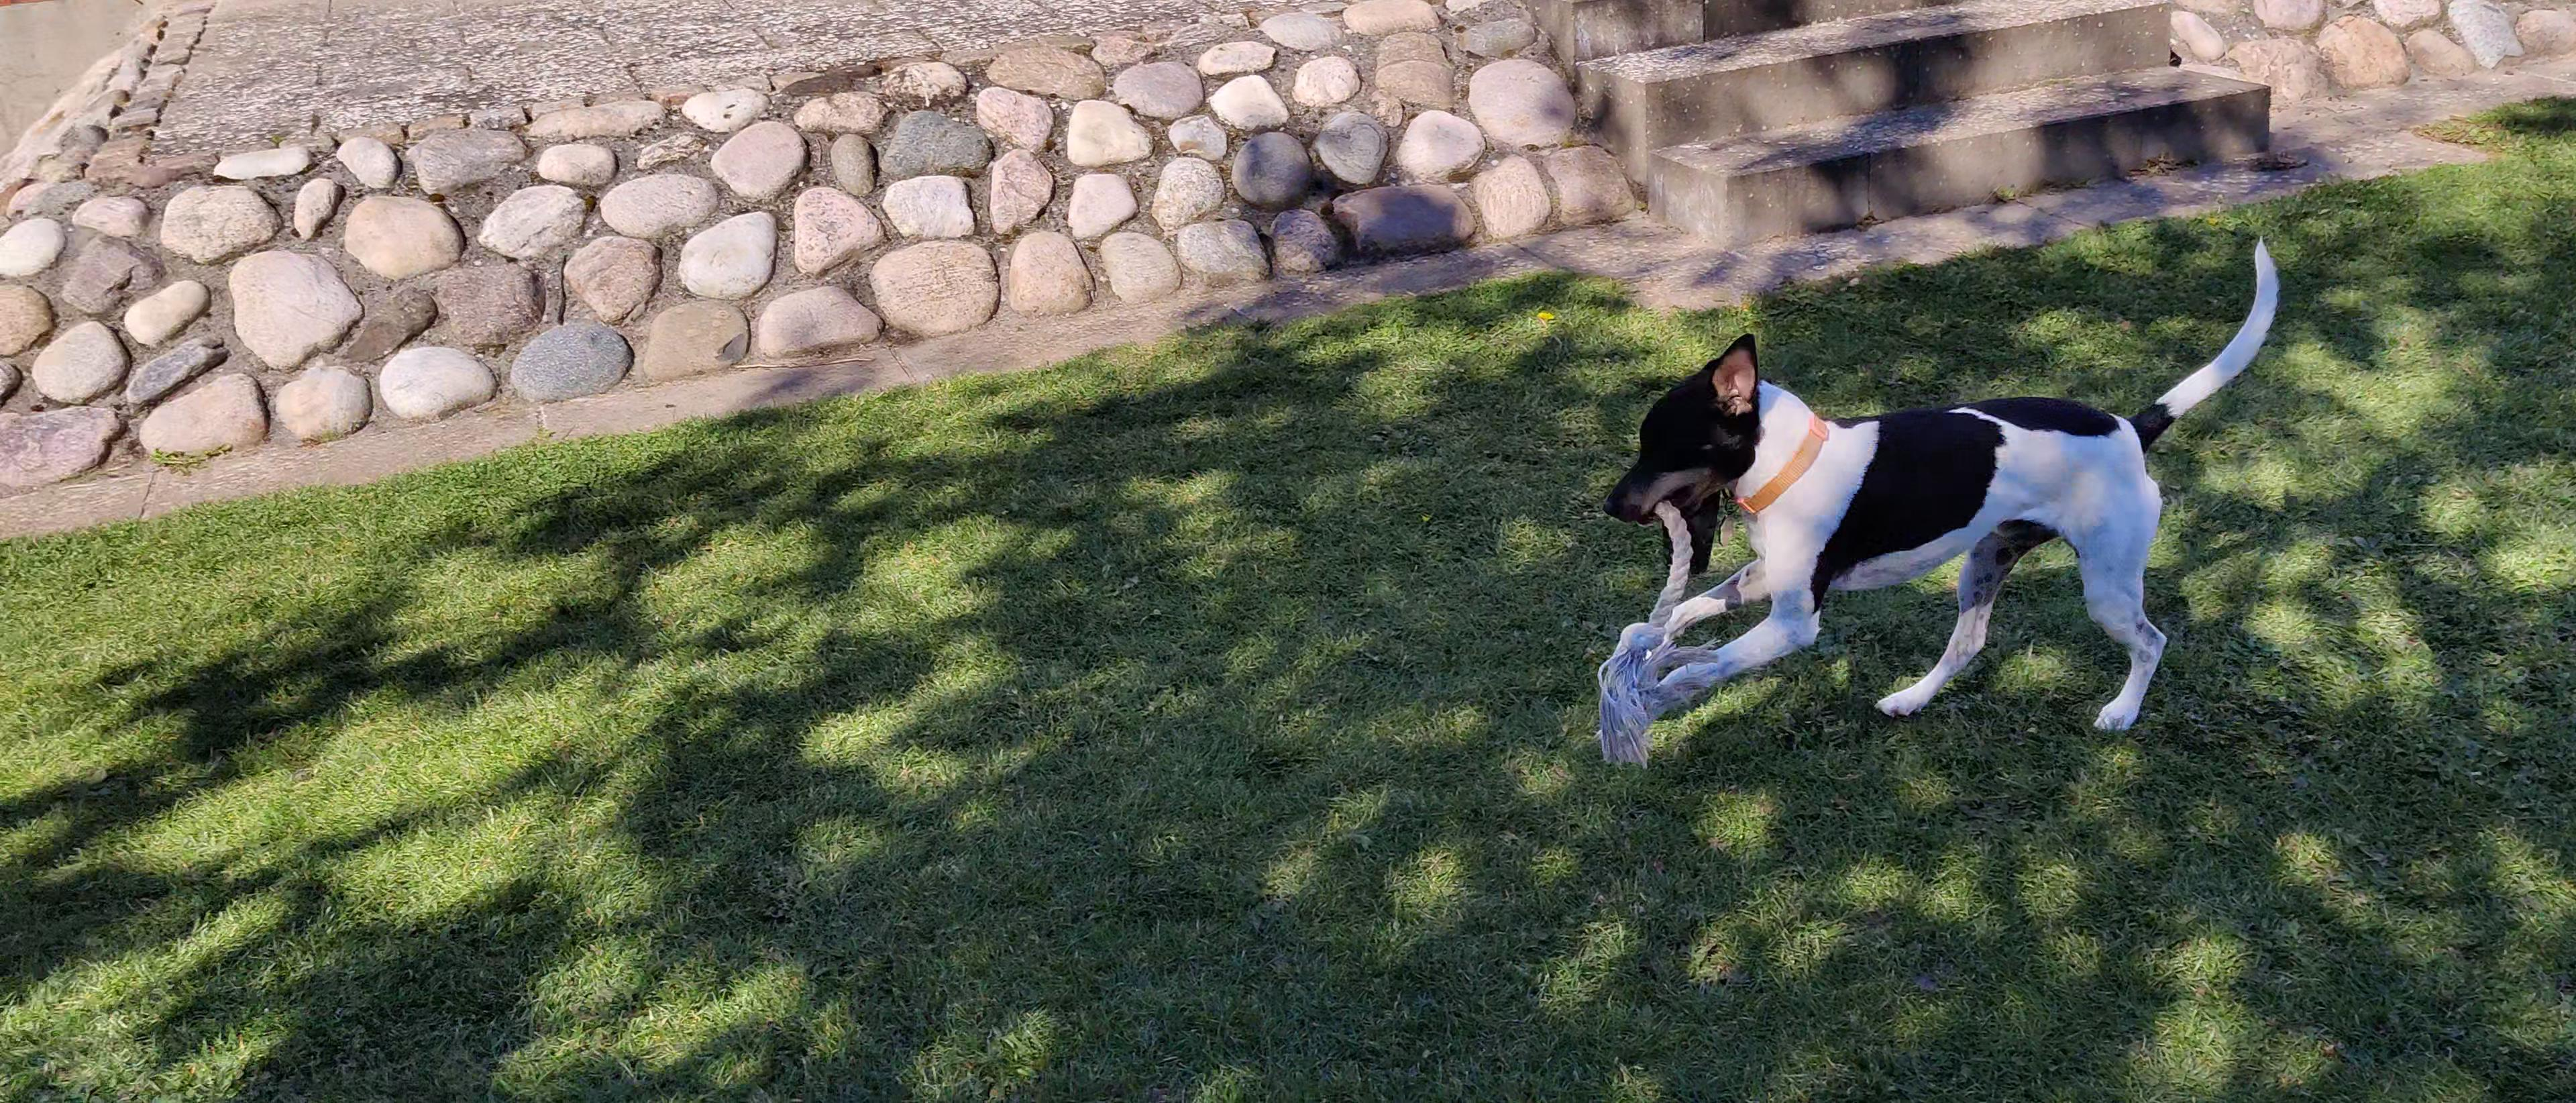Dog: (1594, 230, 2287, 738)
